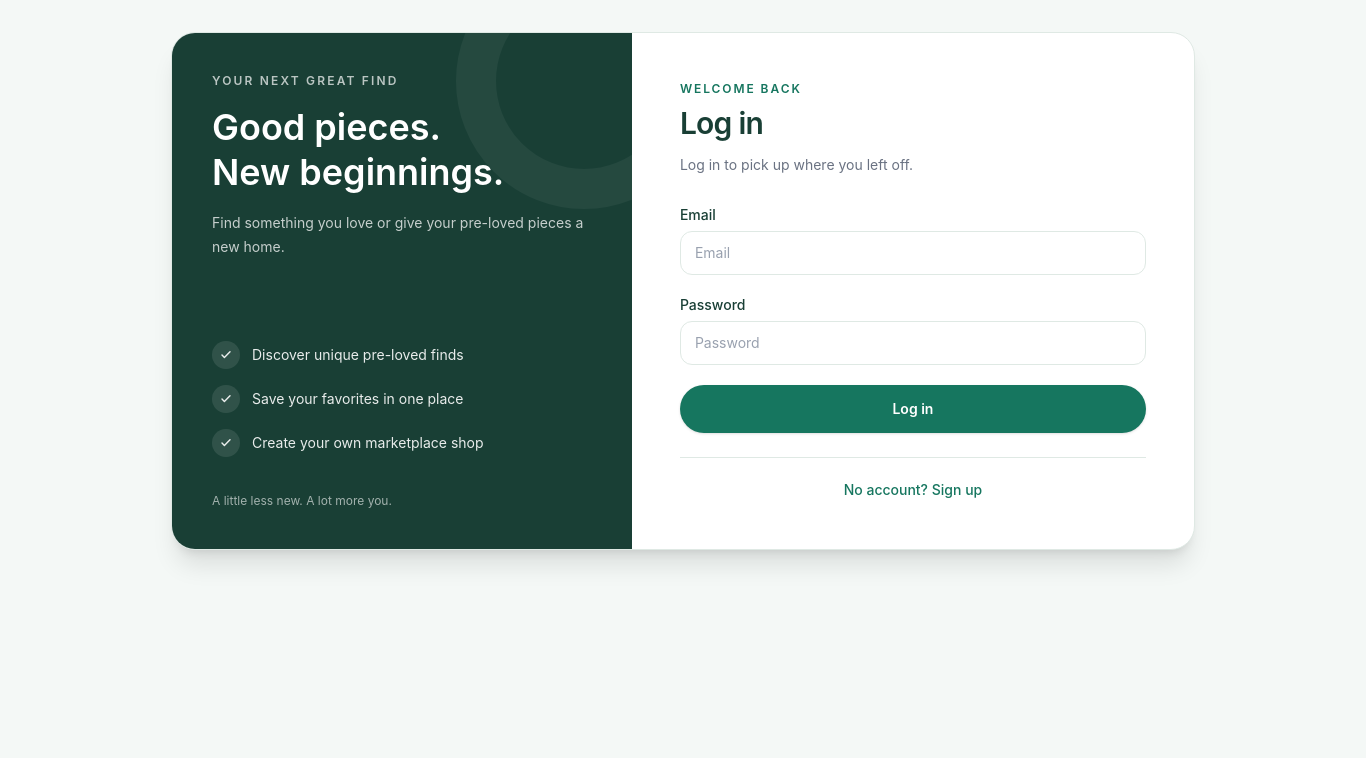
Test case: frontend account and failure flows › registers with full name and a normalized username and preserves verification flow
Click the button "No account? Sign up".
click(913, 479)  # box [680, 457, 1146, 501]
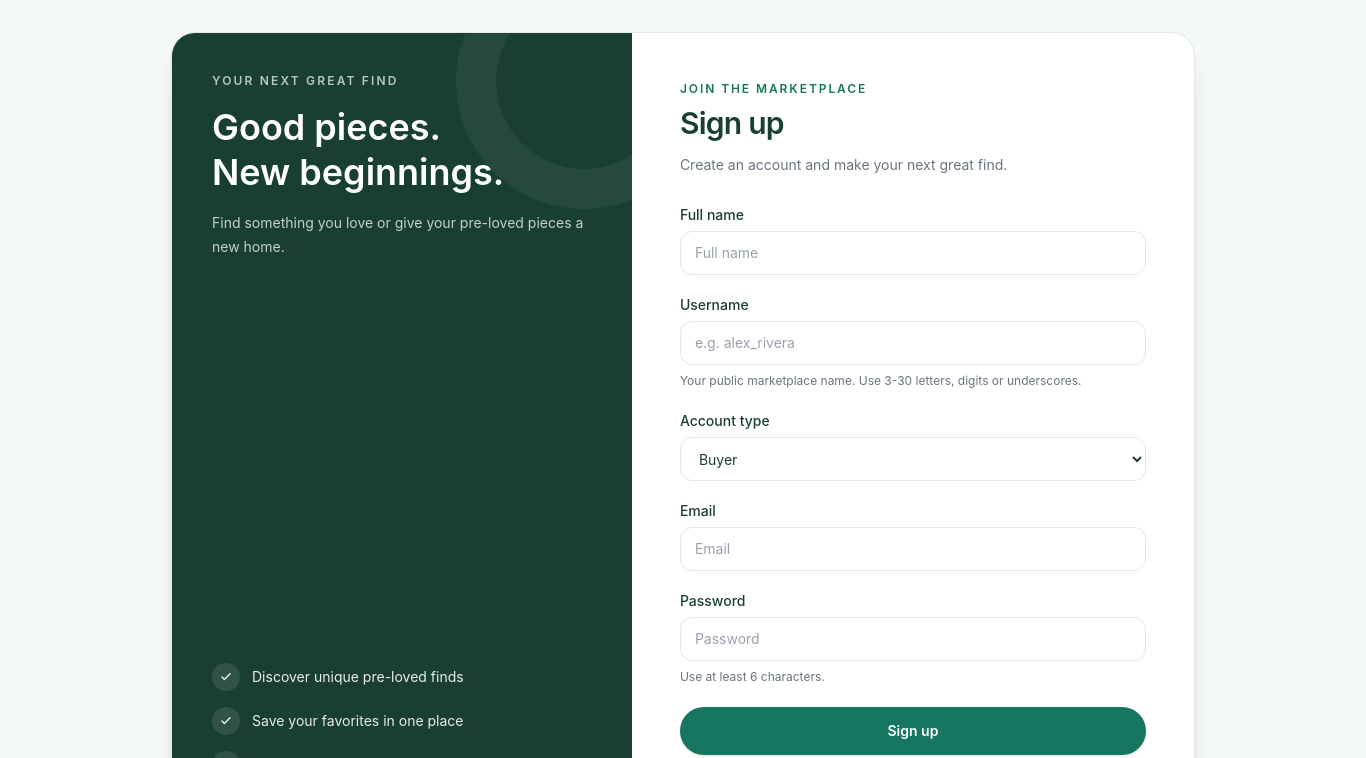
Type "Alex Rivera" into the field labelled "Full name".
click(913, 253); type("Alex Rivera")  # box [680, 231, 1146, 275]
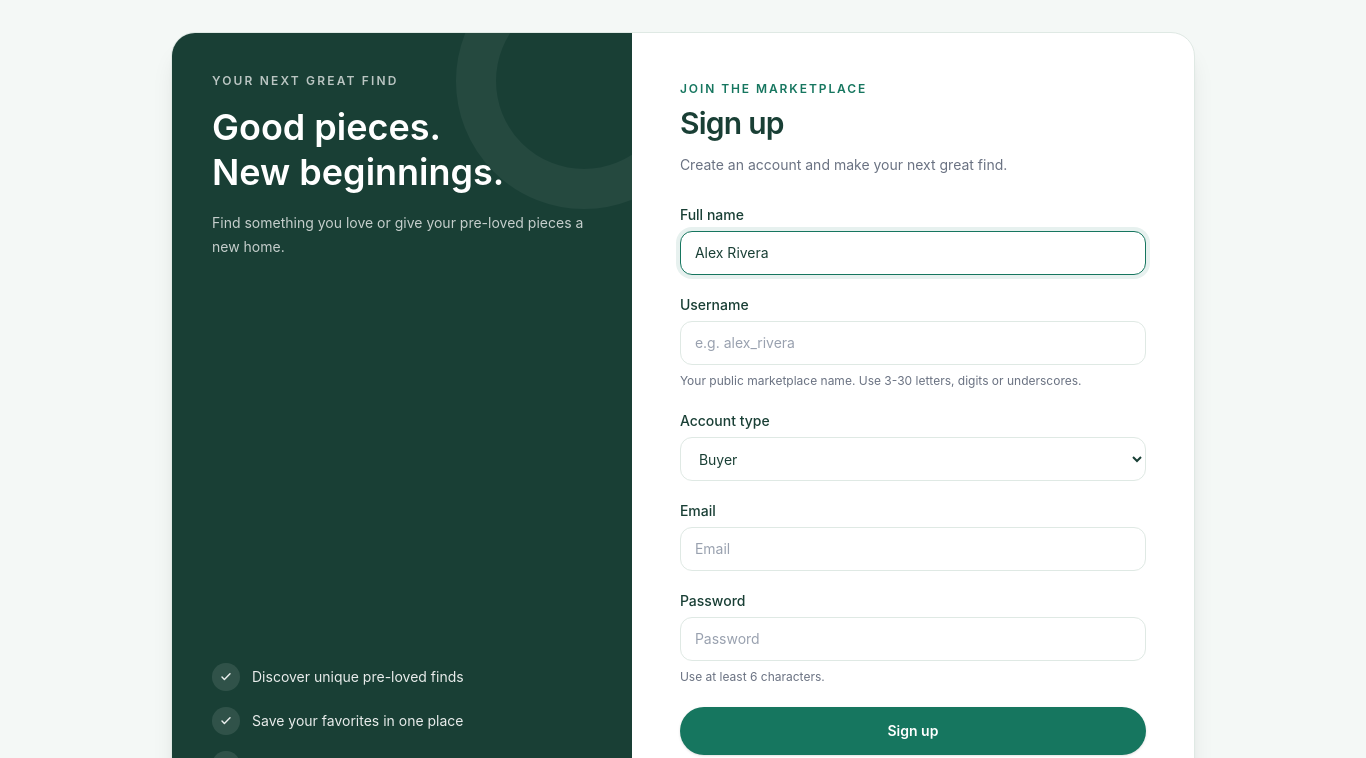
Type "Alex_Rivera" into the field labelled "Username".
click(913, 343); type("Alex_Rivera")  # box [680, 321, 1146, 365]
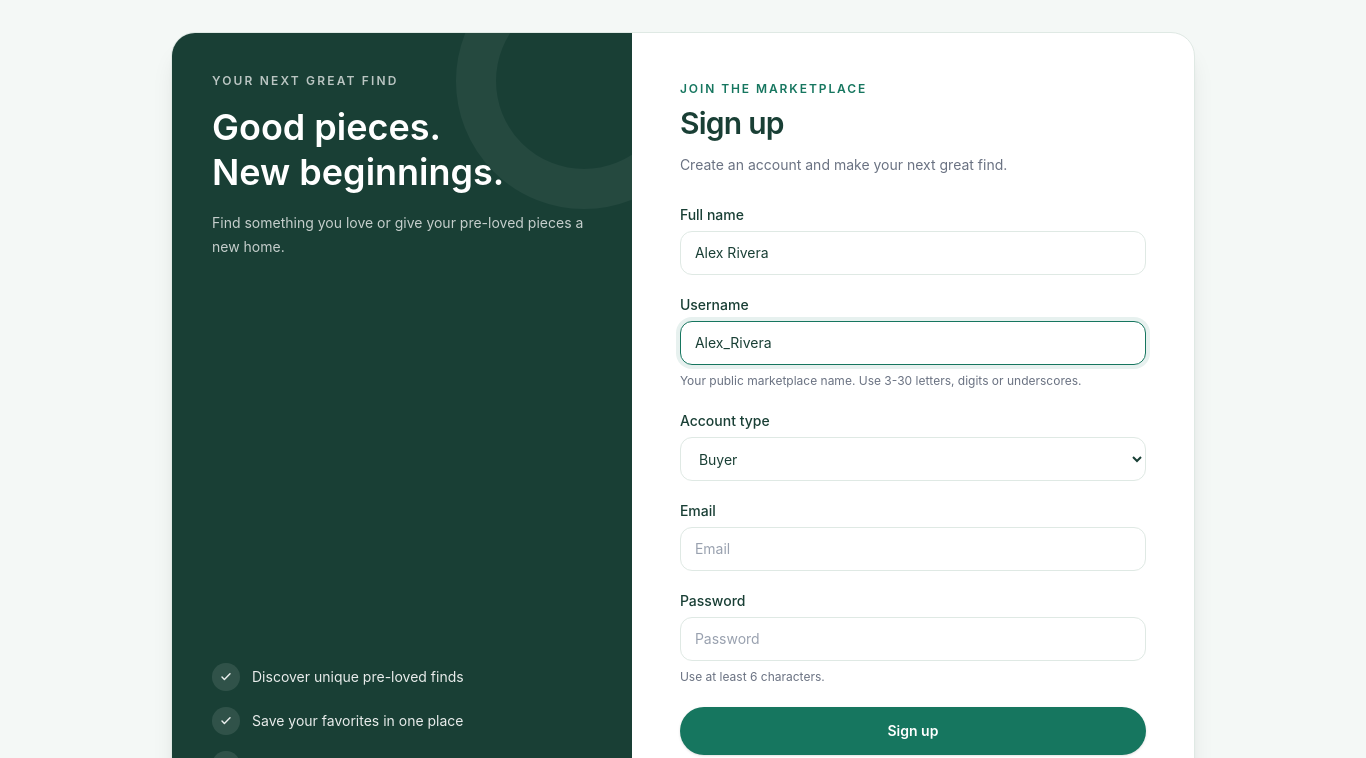
Type "alex@example.test" into the field labelled "Email".
click(913, 549); type("alex@example.test")  # box [680, 527, 1146, 571]
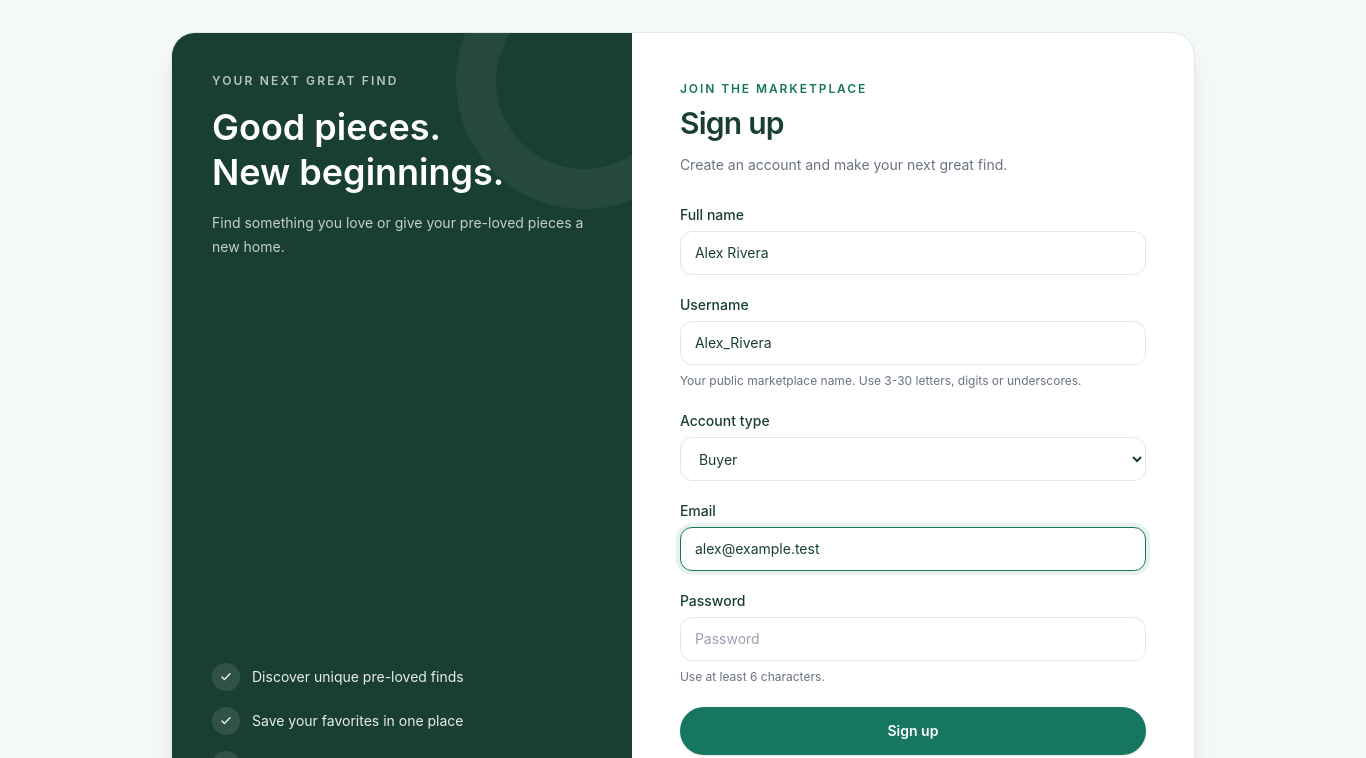
Type "password" into the password field labelled "Password".
click(913, 639); type("password")  # box [680, 617, 1146, 661]
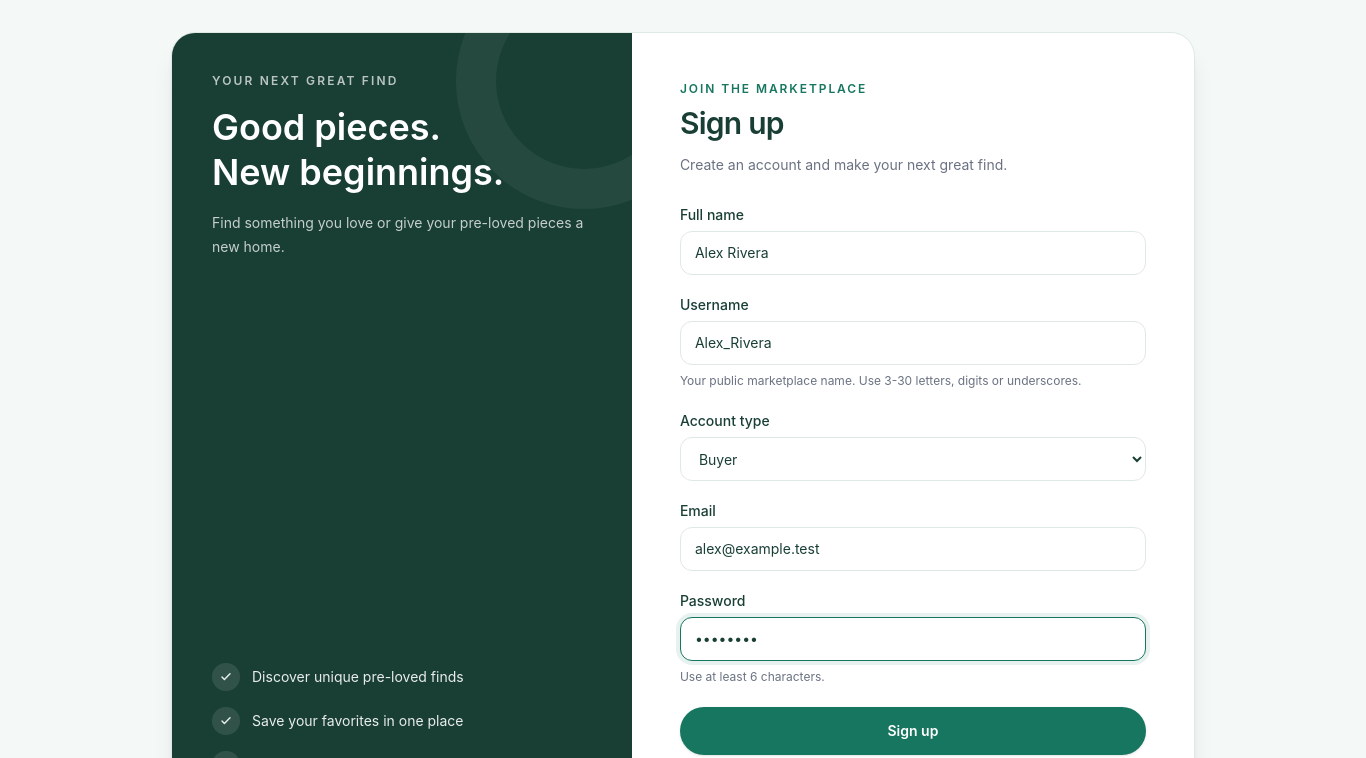
Click the button "Sign up".
click(913, 731)  # box [680, 707, 1146, 755]
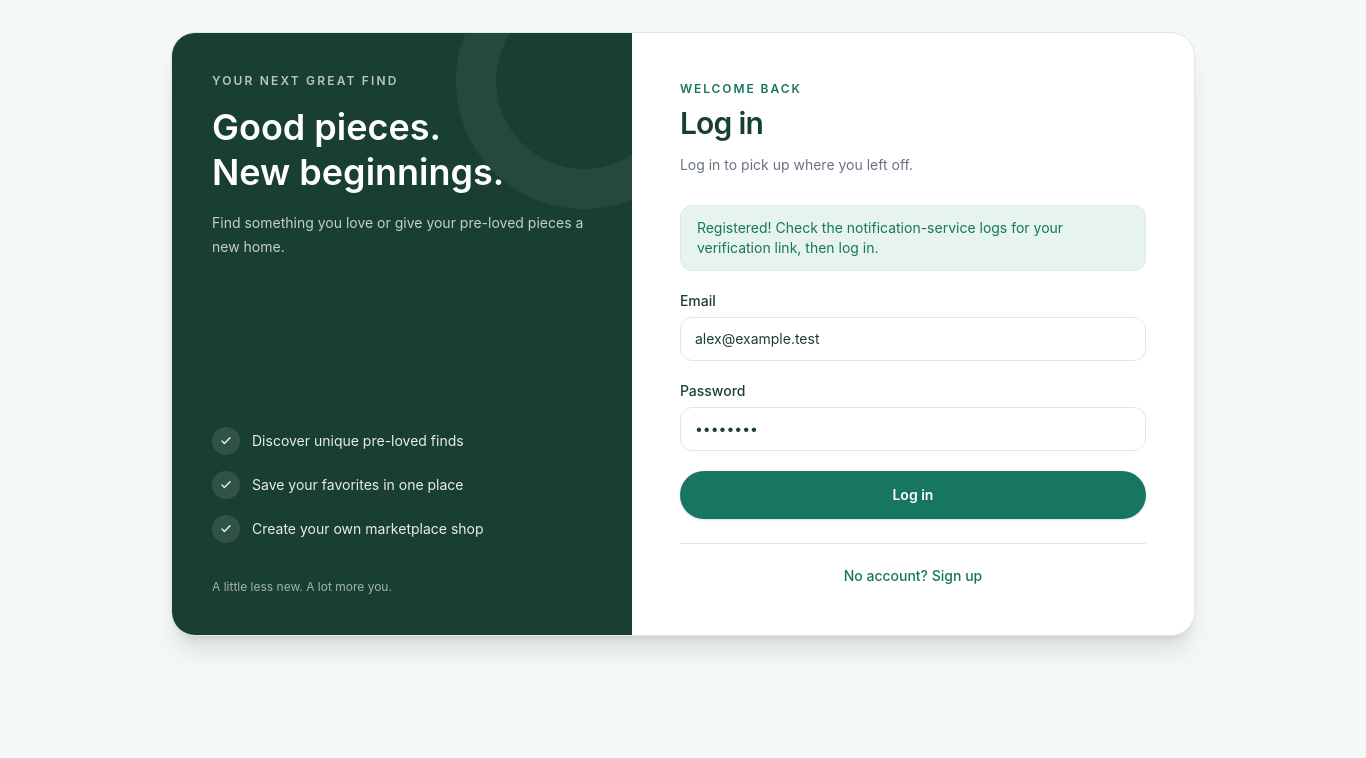
Expected: the message shows "verification link", [697, 219, 1063, 256]
Expected: the button "Log in" is shown, [680, 471, 1146, 519]
